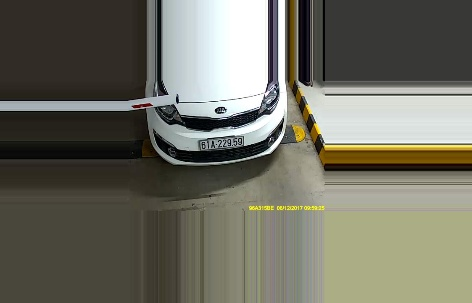plate: (195, 134, 245, 149)
